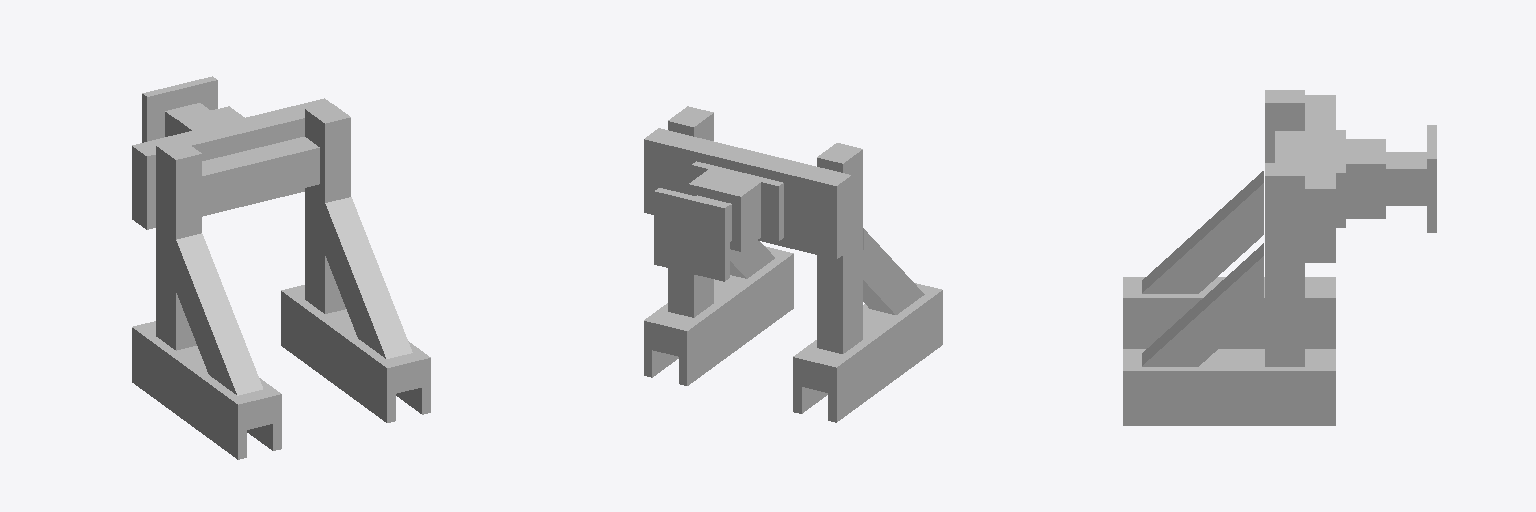
The model's file is narrow_mono_buffer_stop.obj.
The picture shows the model from 3 angles: view 1: azimuth 30°, elevation 25°; view 2: azimuth 150°, elevation 25°; view 3: azimuth 270°, elevation 25°; orthographic projection.
Visible parts, largest first — view 1: cube.003, cube.008, cube, cube.002, cube.001, cube.006, cube.010, cube.013, cube.012, cube.014, cube.005, cube.009 (+4 smaller); view 2: cube.003, cube.008, cube.013, cube, cube.014, cube.012, cube.017, cube.006, cube.001, cube.016, cube.005, cube.009 (+3 smaller); view 3: cube.007, cube.006, cube.002, cube.001, cube.004, cube.012, cube.017, cube.015, cube, cube.013, cube.009, cube.014 (+3 smaller).
Boxes of the visible parts, x1=… form: cube.003: x1=132, y1=325, x2=246, y2=459; cube.008: x1=281, y1=288, x2=395, y2=422; cube: x1=156, y1=139, x2=201, y2=350; cube.002: x1=325, y1=197, x2=412, y2=358; cube.001: x1=176, y1=233, x2=262, y2=395; cube.006: x1=305, y1=103, x2=350, y2=313; cube.010: x1=202, y1=137, x2=319, y2=212; cube.013: x1=132, y1=122, x2=242, y2=229; cube.012: x1=229, y1=98, x2=329, y2=206; cube.014: x1=142, y1=76, x2=217, y2=142; cube.005: x1=141, y1=321, x2=272, y2=429; cube.009: x1=290, y1=285, x2=421, y2=393; cube.003: x1=828, y1=288, x2=942, y2=422; cube.008: x1=679, y1=251, x2=793, y2=385; cube.013: x1=740, y1=152, x2=851, y2=259; cube: x1=817, y1=143, x2=862, y2=353; cube.014: x1=654, y1=188, x2=729, y2=281; cube.012: x1=644, y1=128, x2=754, y2=214; cube.017: x1=688, y1=169, x2=760, y2=251; cube.006: x1=668, y1=106, x2=713, y2=317; cube.001: x1=863, y1=228, x2=924, y2=314; cube.016: x1=691, y1=161, x2=783, y2=240; cube.005: x1=802, y1=283, x2=933, y2=392; cube.009: x1=652, y1=246, x2=784, y2=356; cube.007: x1=1123, y1=367, x2=1335, y2=425; cube.006: x1=1265, y1=163, x2=1304, y2=366; cube.002: x1=1142, y1=243, x2=1263, y2=366; cube.001: x1=1142, y1=171, x2=1263, y2=293; cube.004: x1=1123, y1=294, x2=1335, y2=348; cube.012: x1=1305, y1=142, x2=1335, y2=262; cube.017: x1=1346, y1=139, x2=1385, y2=218; cube.015: x1=1386, y1=152, x2=1426, y2=205; cube: x1=1265, y1=90, x2=1304, y2=162; cube.013: x1=1305, y1=95, x2=1335, y2=141; cube.009: x1=1123, y1=354, x2=1335, y2=366; cube.014: x1=1427, y1=125, x2=1436, y2=232.
Size of the model in its own units: 1.38 by 1.67 by 1.94.